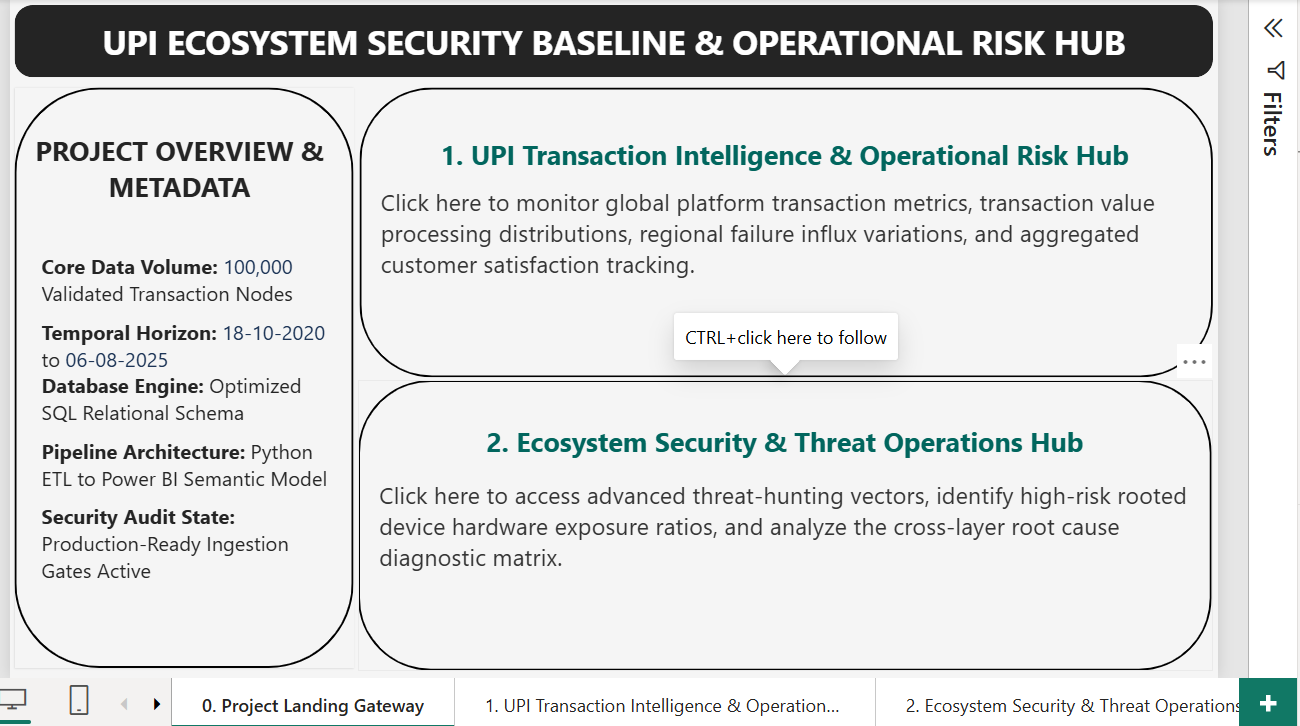

This screenshot's page, from the dashboard's own definition file:
{"tool":"powerbi","page":{"name":"0. Project Landing Gateway","canvas":[1920,1080],"ordinal":0},"visuals":[{"type":"shape","box":[7.2,9.5,1906.3,115],"z":0},{"type":"shape","box":[7.2,140.8,539.2,923.3],"z":1000},{"type":"textbox","box":[31,212.3,477.2,155.1],"z":2000},{"type":"textbox","box":[50.1,403.2,477.2,589.3],"z":3000},{"type":"shape","box":[555.9,140.8,1357.6,461],"z":4000},{"type":"shape","box":[554.6,606.6,1357.7,462.2],"z":5000},{"type":"actionButton","box":[591.7,212.3,1281.2,62],"z":6000},{"type":"actionButton","box":[592.2,667.3,1281.2,62],"z":7000}]}

Visuals, with their boxes on the page's 1920x1080 design canvas (x1, y1, x2, y2). These are canvas units, not pixel positions in the 1300x726 screenshot, which may show the page scaled, cropped or inside an application window:
shape: pyautogui.locateOnScreen(7, 10, 1914, 124)
shape: pyautogui.locateOnScreen(7, 141, 546, 1064)
textbox: pyautogui.locateOnScreen(31, 212, 508, 367)
textbox: pyautogui.locateOnScreen(50, 403, 527, 992)
shape: pyautogui.locateOnScreen(556, 141, 1914, 602)
shape: pyautogui.locateOnScreen(555, 607, 1912, 1069)
actionButton: pyautogui.locateOnScreen(592, 212, 1873, 274)
actionButton: pyautogui.locateOnScreen(592, 667, 1873, 729)
